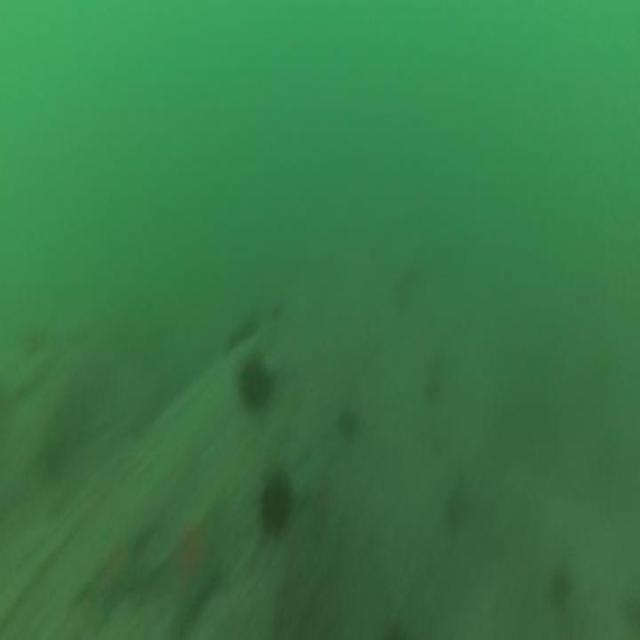echinus: (257, 468, 293, 539), (237, 349, 275, 414), (224, 303, 262, 354), (441, 480, 472, 542), (332, 402, 360, 448), (19, 321, 52, 360), (548, 569, 574, 615)
starfish: (135, 469, 237, 640), (77, 517, 160, 637)
